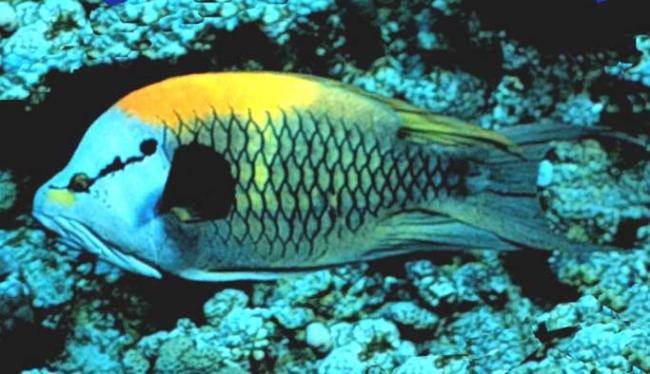fish: (32, 70, 620, 281)
